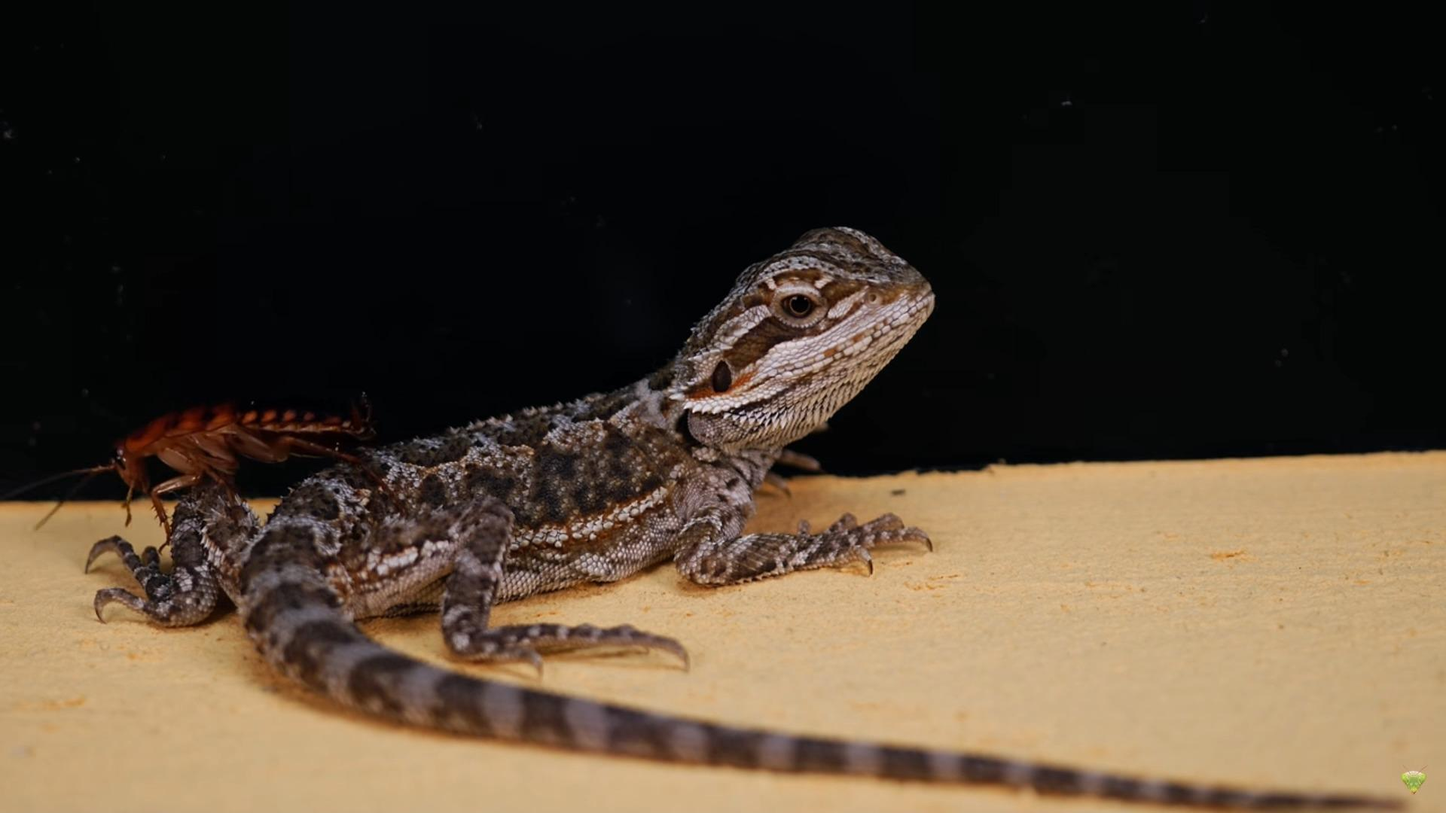cockroach: (71, 379, 407, 503)
lizard: (78, 185, 944, 787)
